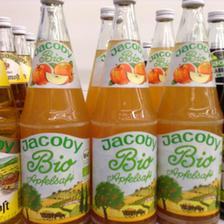Saft: (16, 0, 88, 224), (89, 0, 157, 224), (156, 0, 224, 222)
